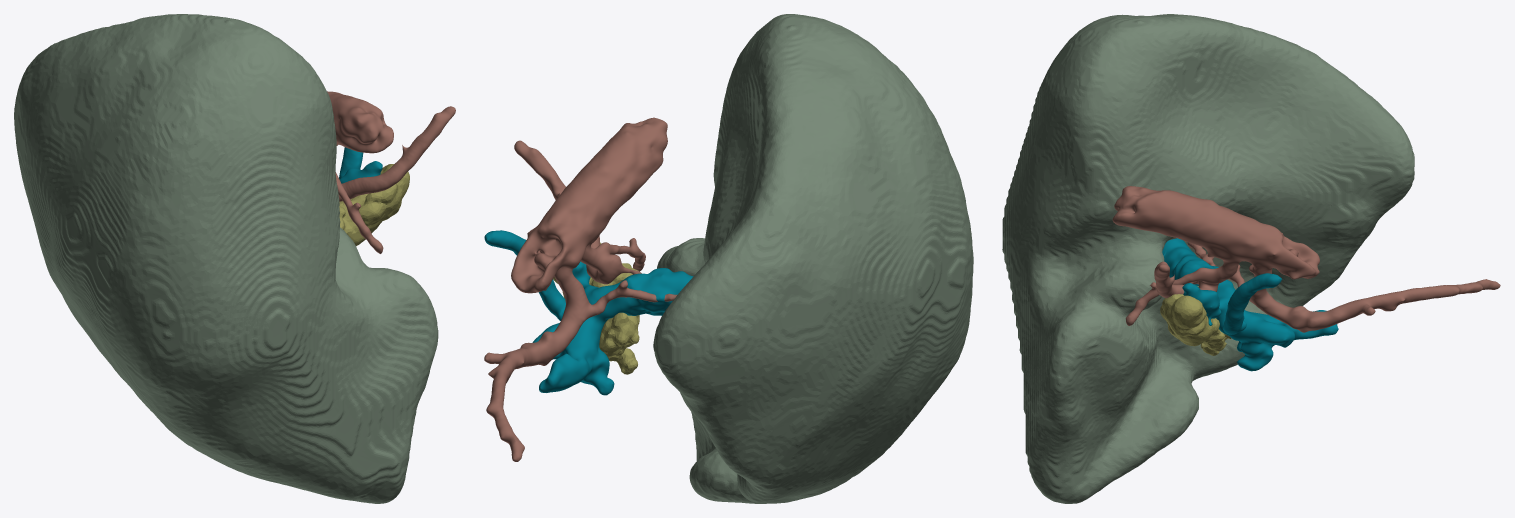
3 renders of one model, left to right at view 1: azimuth 30°, elevation 25°; view 2: azimuth 150°, elevation 25°; view 3: azimuth 270°, elevation 25°, orthographic. The views are drawn at different scales.
Visible parts, largest first — view 1: Higado, Arteria, ADK, Vena; view 2: Higado, Arteria, Vena, ADK; view 3: Higado, Arteria, Vena, ADK.
Part boxes in pixels (<box>): Higado: <box>14,14,438,503</box>; Arteria: <box>327,91,455,253</box>; ADK: <box>339,164,409,245</box>; Vena: <box>339,147,382,183</box>; Higado: <box>653,14,973,503</box>; Arteria: <box>484,117,677,461</box>; Vena: <box>484,230,693,395</box>; ADK: <box>553,242,639,374</box>; Higado: <box>1002,14,1414,503</box>; Arteria: <box>1112,186,1500,332</box>; Vena: <box>1162,238,1338,371</box>; ADK: <box>1160,286,1231,355</box>.
Bounding box in the file's own units: 0.2069 × 0.2491 × 0.2587.
